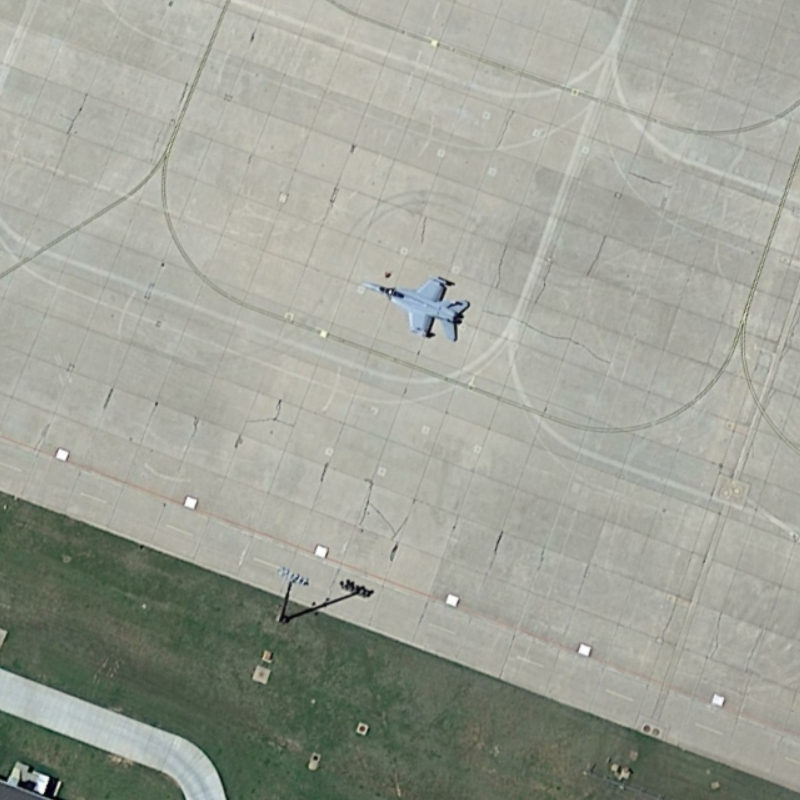A16: (349, 256, 478, 349)
